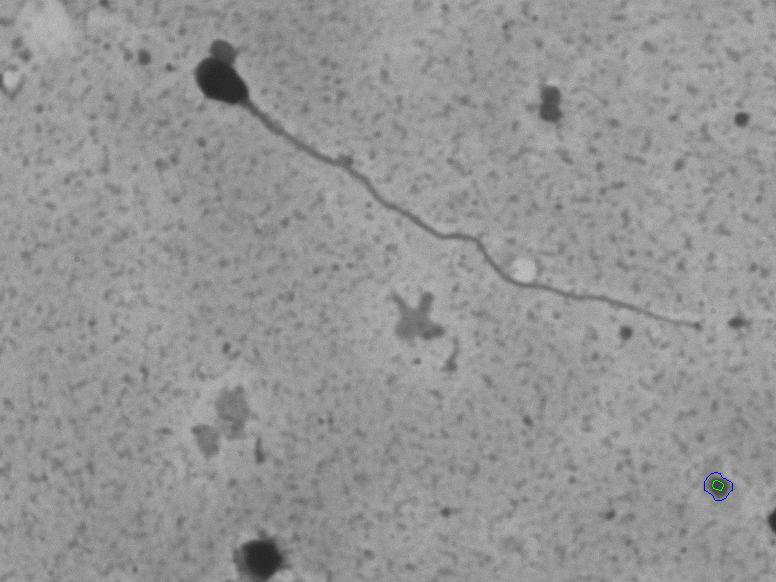Normal: (183, 50, 708, 343)
